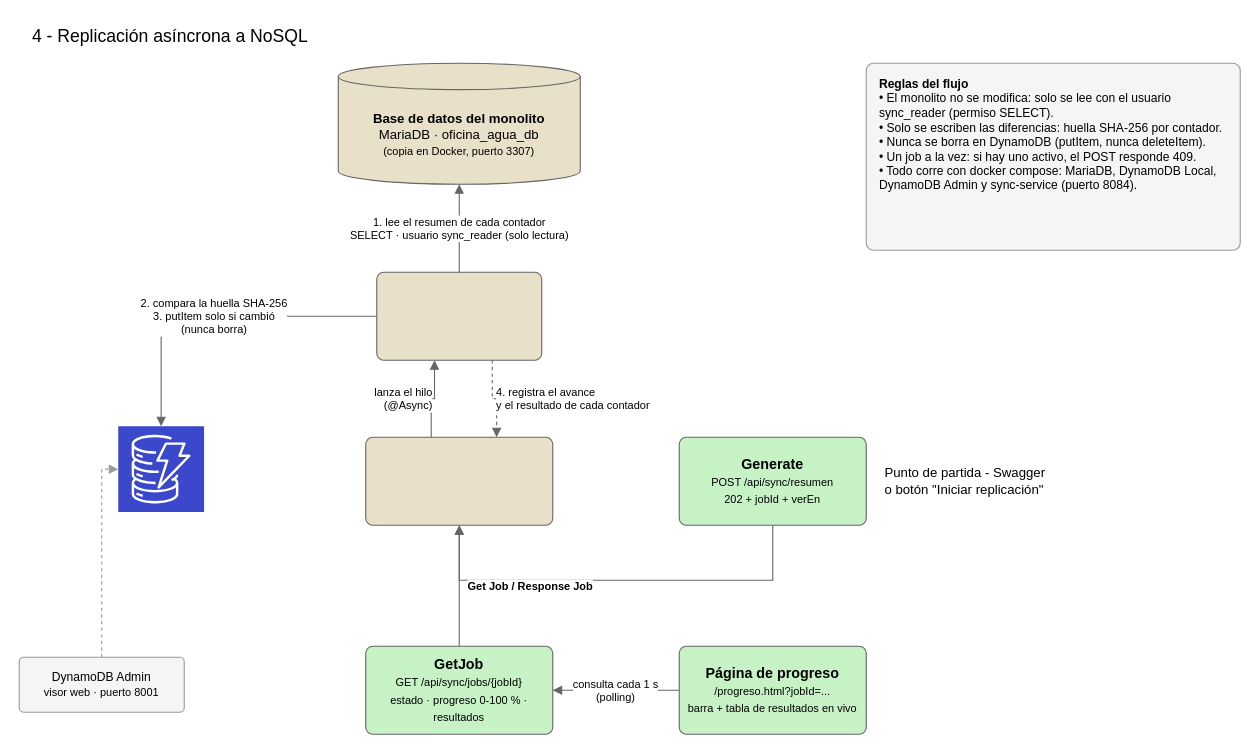
Some shapes in this 1260 by 754 pixel diagram are drawn without their labels. Here are the shapes that lost their labels. From the top down, the centre of each, then its label:
At point (459, 315): "Thread SyncJobRunner · @Async hilo sync-job-1".
At point (160, 468): "Amazon DynamoDB tabla resumen_cuentas (1 documento por contador)".
At point (459, 480): "GenerarJob SyncJobService.crearJob() job en memoria · 409 si hay uno activo".
